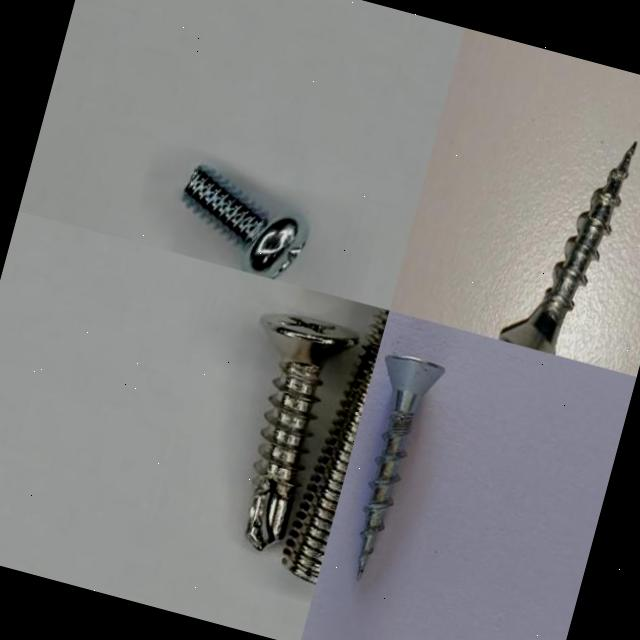Screw: (282, 307, 389, 584), (498, 142, 636, 354), (246, 314, 358, 549), (356, 355, 444, 581), (181, 165, 307, 278)
